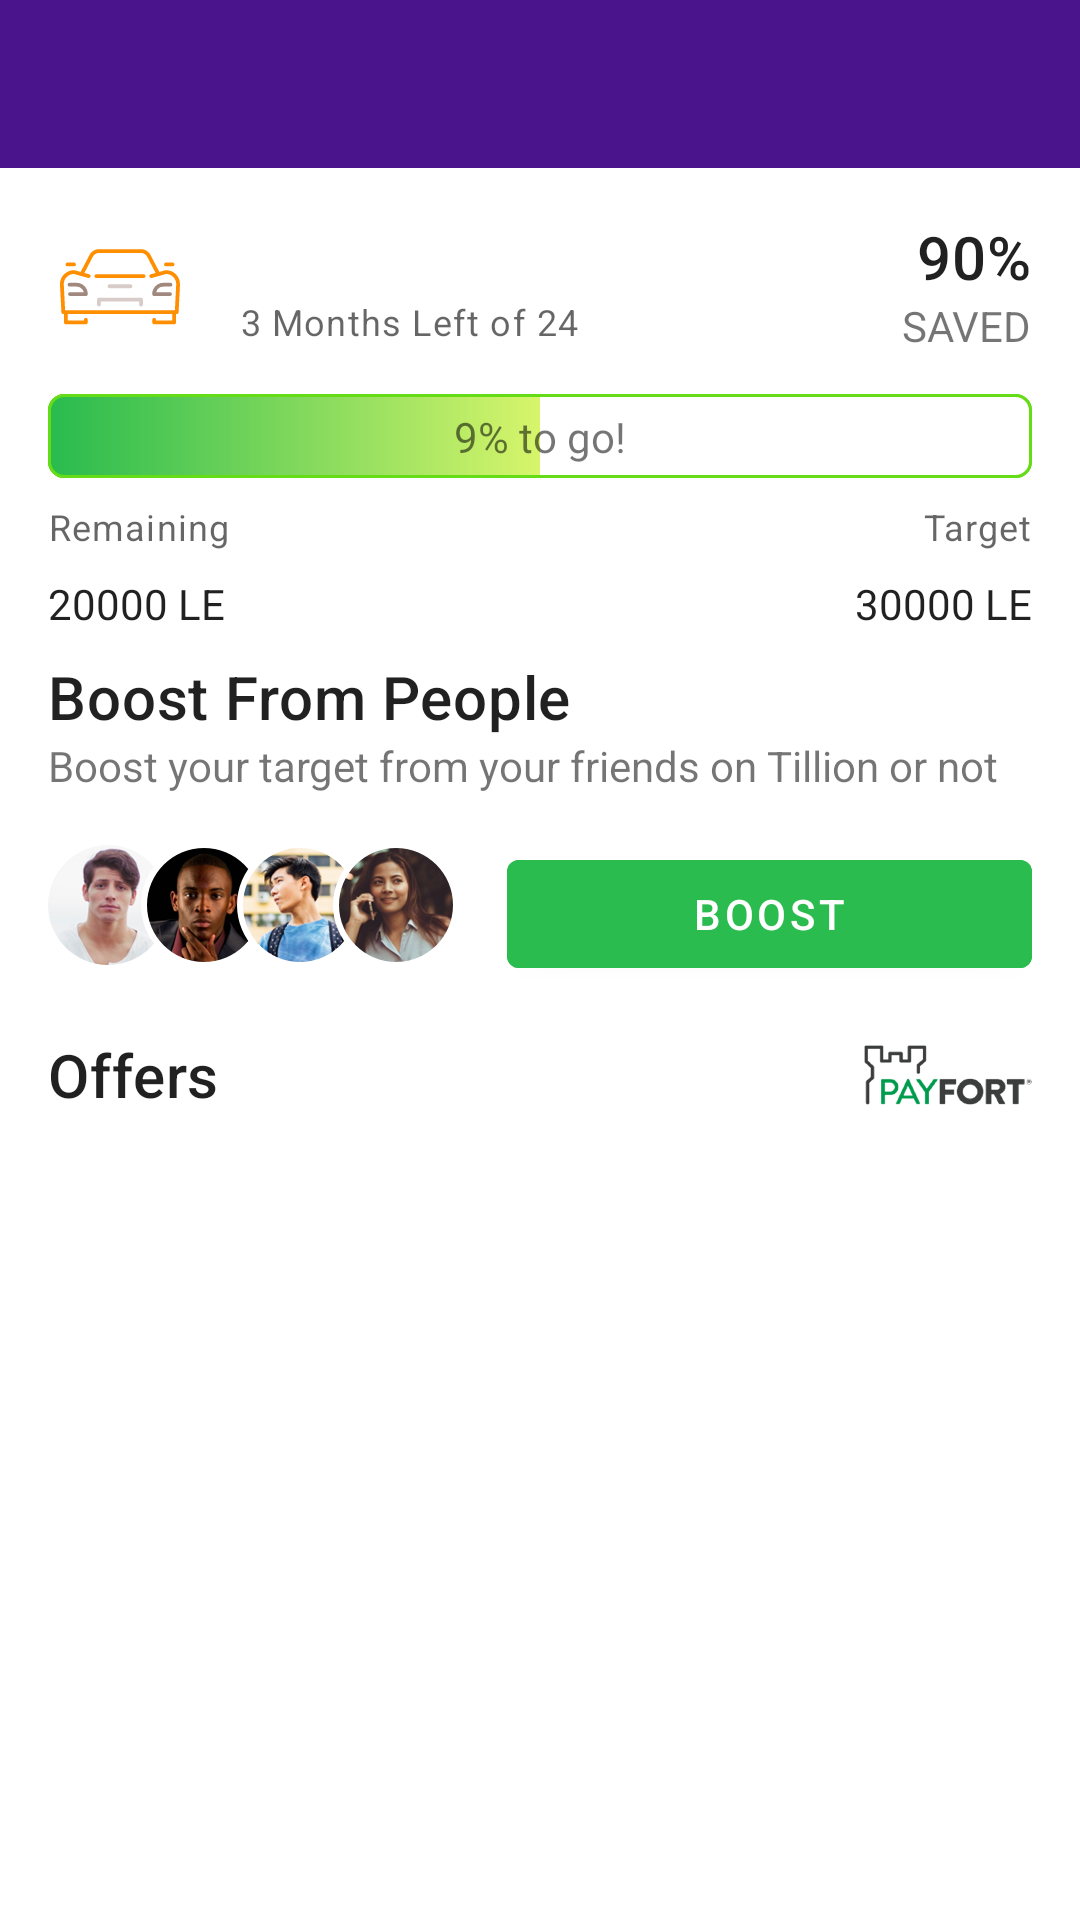

Icon click points for this 1080×1920 phone screenshot, format [x,y]:
sport car: [120,287]
